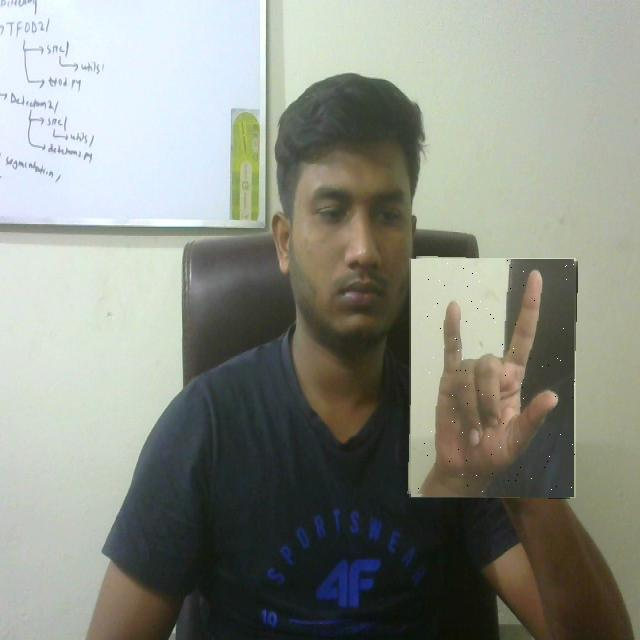IloveYou: (409, 258, 576, 498)
